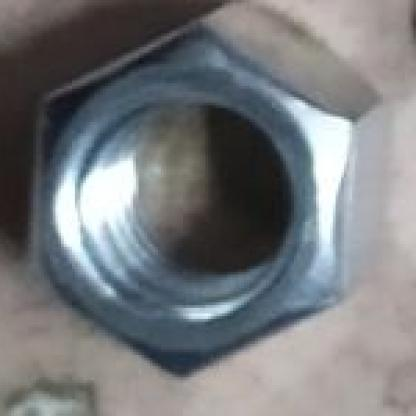FOD: (11, 25, 411, 397)
